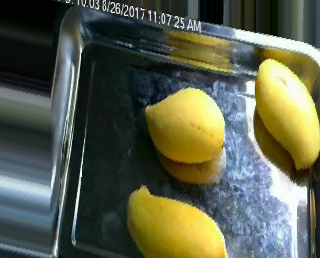Mango: (123, 184, 226, 258), (254, 57, 320, 169), (144, 84, 229, 163)
